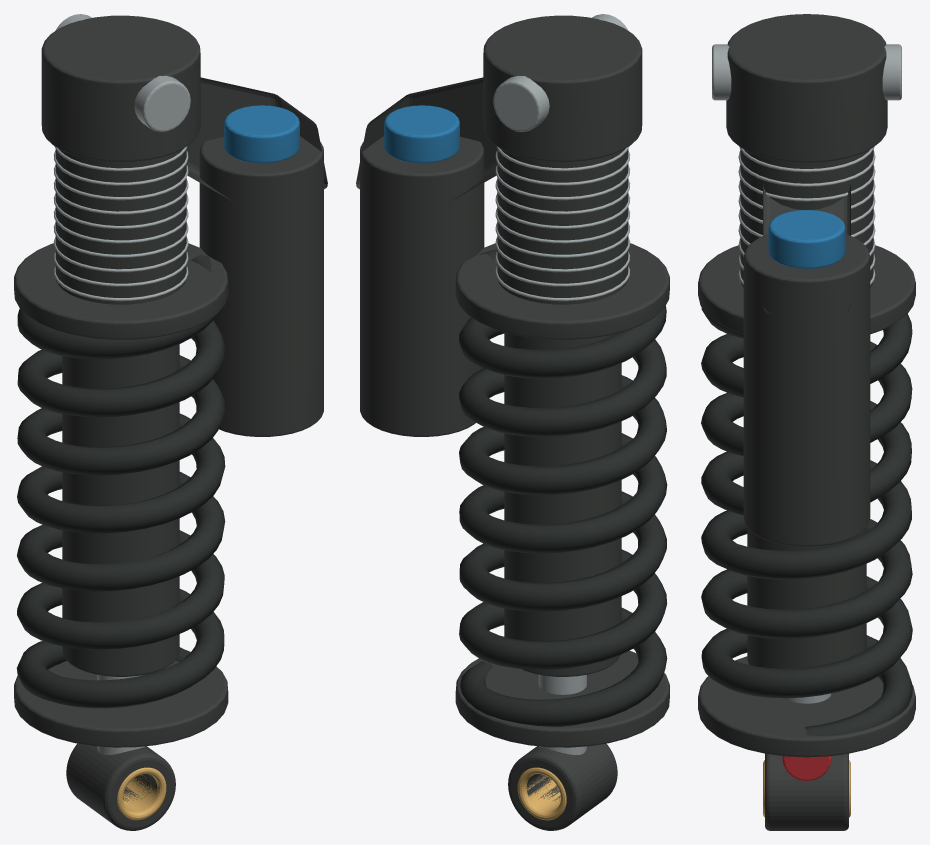
Rendered from marzocchi-bomber-cr--7a8b6311.glb.
3 views of the same model, side by side, from view 1: azimuth 30°, elevation 25°; view 2: azimuth 150°, elevation 25°; view 3: azimuth 270°, elevation 25° (orthographic).
Parts seen in each view (by area): view 1: marzocchi-bomber-cr--7a8b6311__link, marzocchi-bomber-cr--7a8b6311__coil, marzocchi-bomber-cr--7a8b6311__bolts, marzocchi-bomber-cr--7a8b6311__adjuster, marzocchi-bomber-cr--7a8b6311__stanchions; view 2: marzocchi-bomber-cr--7a8b6311__link, marzocchi-bomber-cr--7a8b6311__coil, marzocchi-bomber-cr--7a8b6311__bolts, marzocchi-bomber-cr--7a8b6311__adjuster, marzocchi-bomber-cr--7a8b6311__stanchions; view 3: marzocchi-bomber-cr--7a8b6311__link, marzocchi-bomber-cr--7a8b6311__coil, marzocchi-bomber-cr--7a8b6311__bolts, marzocchi-bomber-cr--7a8b6311__adjuster, marzocchi-bomber-cr--7a8b6311__rebound.
Boxes of the visible parts, box(x1,y1,x2,y2) form: marzocchi-bomber-cr--7a8b6311__link: box(14, 15, 327, 830); marzocchi-bomber-cr--7a8b6311__coil: box(16, 255, 225, 708); marzocchi-bomber-cr--7a8b6311__bolts: box(53, 14, 190, 754); marzocchi-bomber-cr--7a8b6311__adjuster: box(224, 105, 299, 163); marzocchi-bomber-cr--7a8b6311__stanchions: box(117, 767, 166, 820); marzocchi-bomber-cr--7a8b6311__link: box(356, 15, 669, 830); marzocchi-bomber-cr--7a8b6311__coil: box(459, 249, 667, 726); marzocchi-bomber-cr--7a8b6311__bolts: box(493, 14, 630, 754); marzocchi-bomber-cr--7a8b6311__adjuster: box(384, 105, 459, 163); marzocchi-bomber-cr--7a8b6311__stanchions: box(517, 767, 566, 820); marzocchi-bomber-cr--7a8b6311__link: box(698, 14, 915, 830); marzocchi-bomber-cr--7a8b6311__coil: box(701, 308, 912, 735); marzocchi-bomber-cr--7a8b6311__bolts: box(712, 44, 901, 703); marzocchi-bomber-cr--7a8b6311__adjuster: box(768, 210, 845, 268); marzocchi-bomber-cr--7a8b6311__rebound: box(782, 756, 831, 780).
Size of the model in its own units: 0.096 by 0.245 by 0.062.
